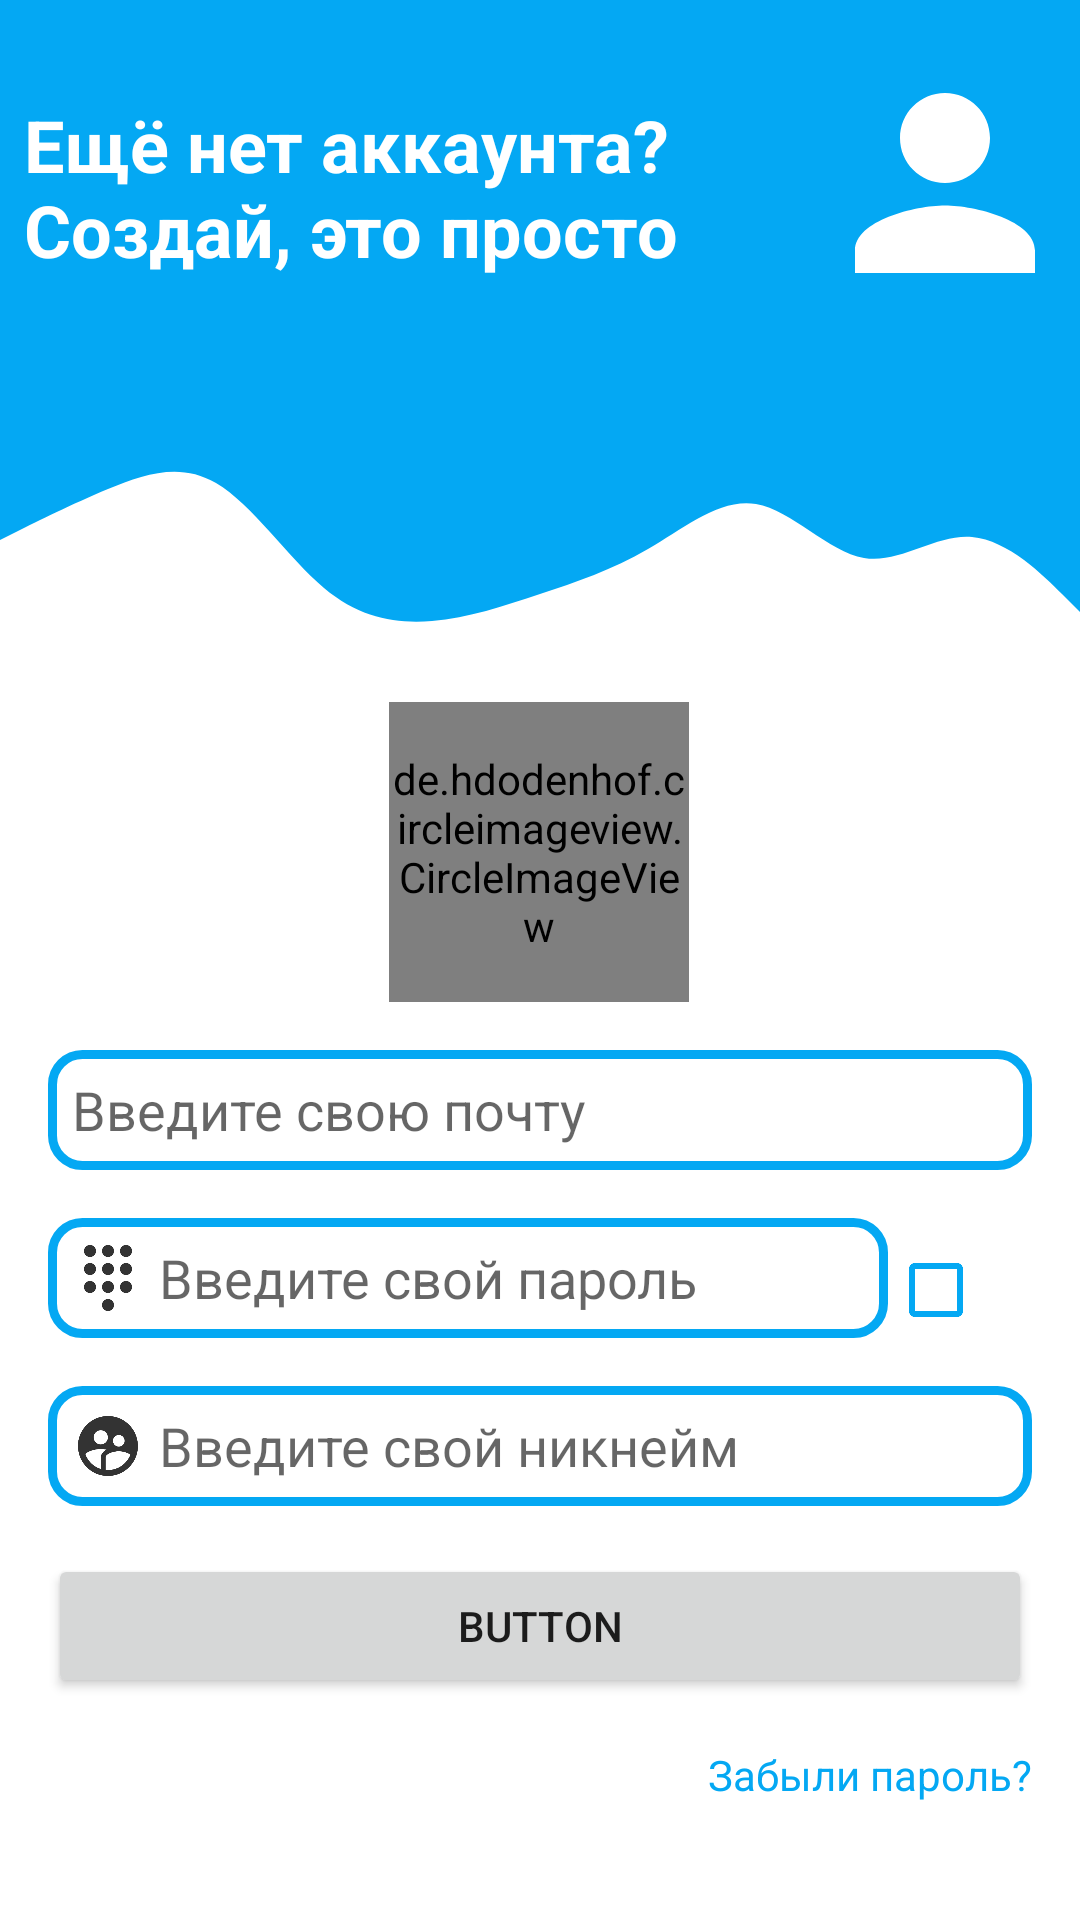

Icons on this 1080x1920 Android screen, each with its box as (x1, y1, x2, y2):
user: (855, 93, 1035, 273)
